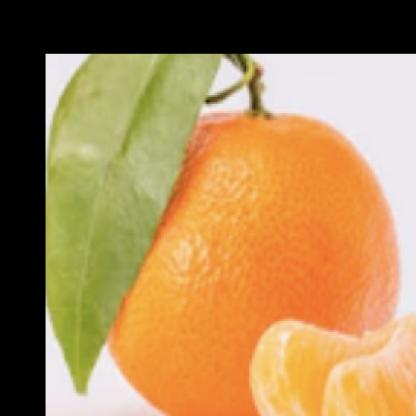fresh: (91, 83, 397, 416)
